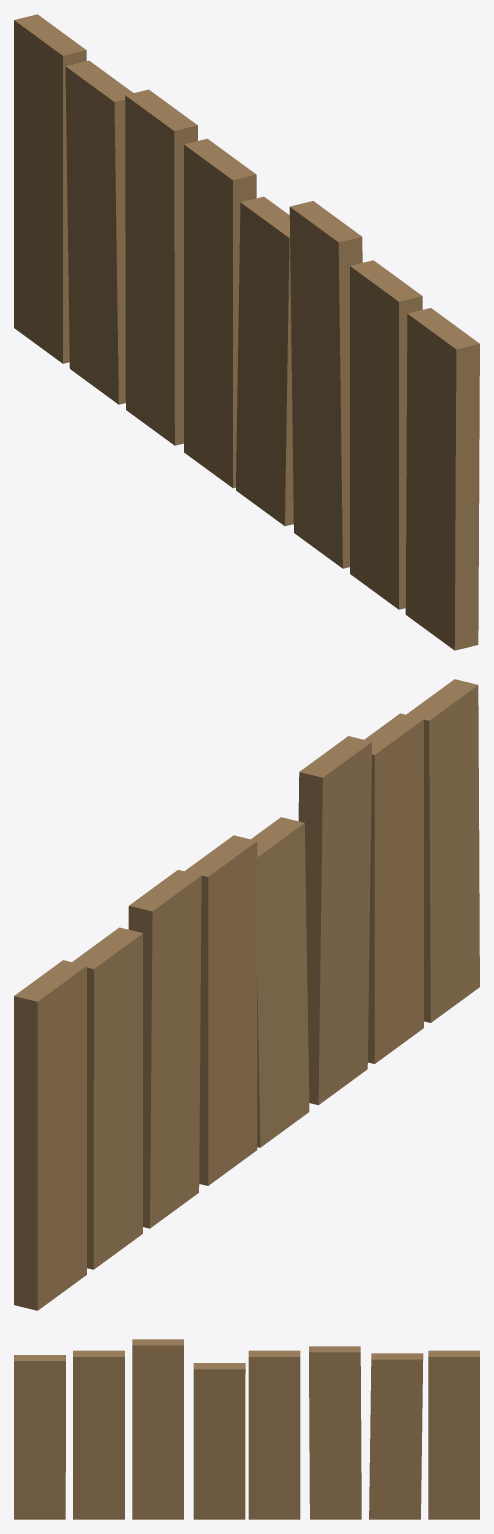
File: fence.fbx
3 views of the same model, one above another, from view 1: azimuth 30°, elevation 25°; view 2: azimuth 150°, elevation 25°; view 3: azimuth 270°, elevation 25° (orthographic). The views are drawn at different scales.
Parts seen in each view (by area): view 1: Cube; view 2: Cube; view 3: Cube.
Boxes of the visible parts, x1,y1,x2,y2 form: Cube: (14,14,479,650); Cube: (14,679,479,1310); Cube: (14,1339,479,1519).
Size of the model in its own units: 22.14 by 213 by 519.
